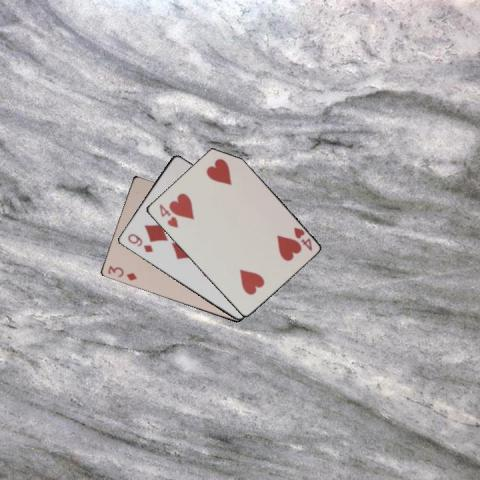3d: (104, 263, 138, 282)
4h: (156, 202, 179, 230), (291, 224, 313, 253)
9d: (124, 231, 155, 254)
